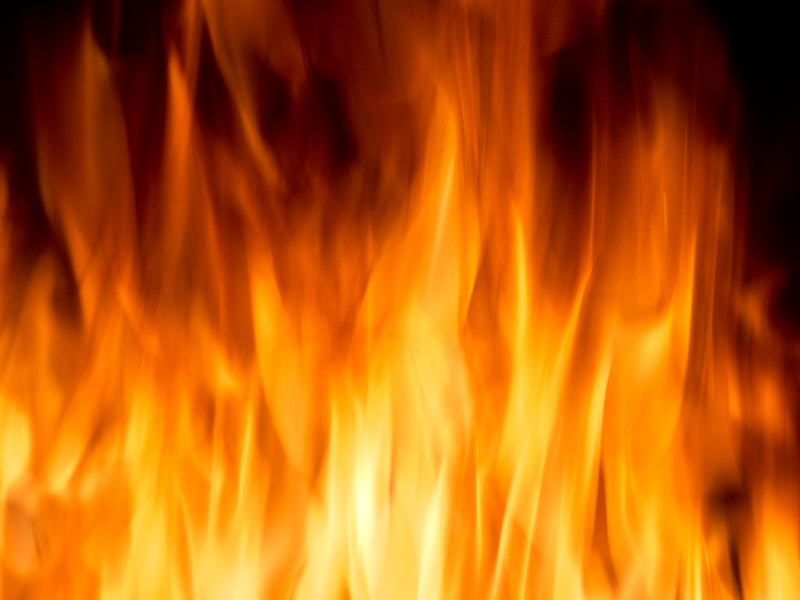fire: (1, 1, 800, 600)
